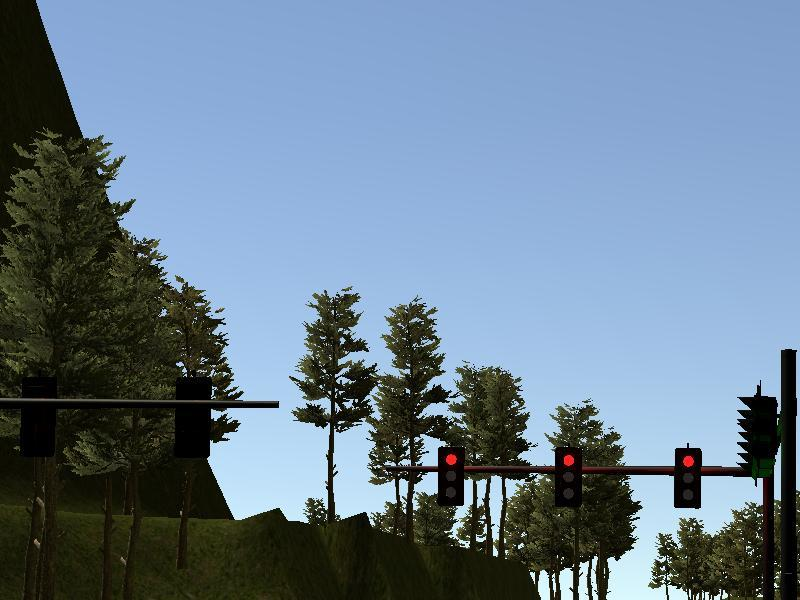Red: (554, 447, 583, 506), (438, 445, 463, 505), (675, 451, 700, 506)
